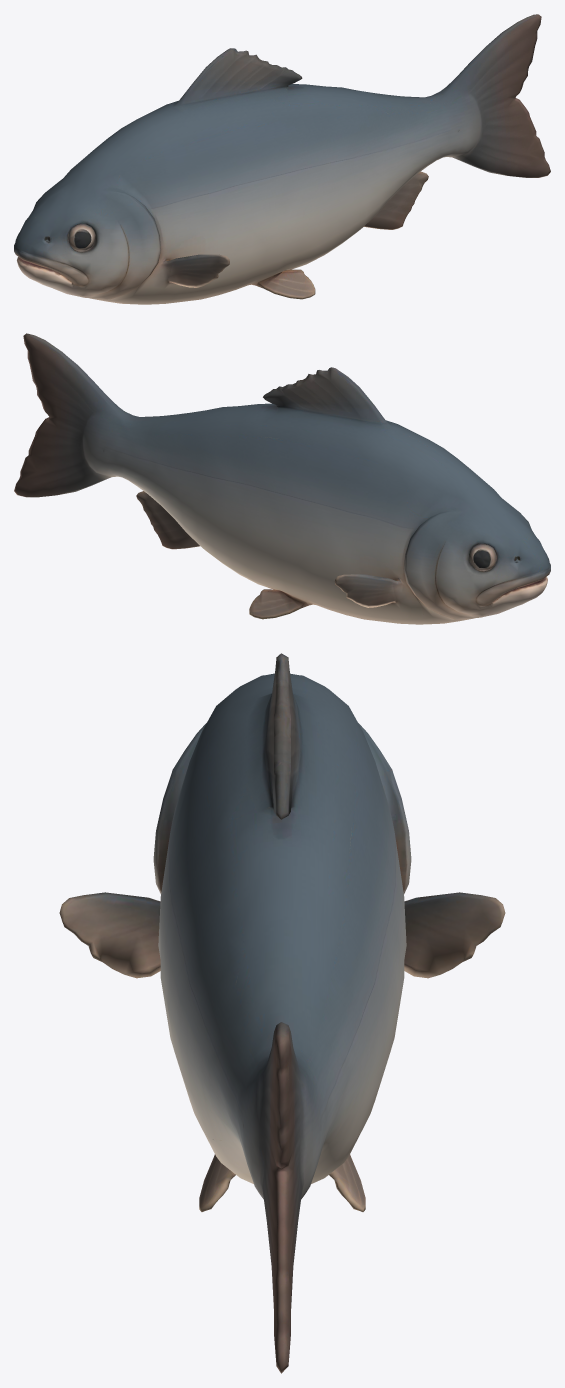
File: selected.glb
3 views of the same model, one above another, from view 1: azimuth 30°, elevation 25°; view 2: azimuth 150°, elevation 25°; view 3: azimuth 270°, elevation 25° (orthographic). The views are drawn at different scales.
Visible parts, largest first — view 1: tripo_node_0d0d45de-6e05-4038-92fd-10e9bfde1a5e; view 2: tripo_node_0d0d45de-6e05-4038-92fd-10e9bfde1a5e; view 3: tripo_node_0d0d45de-6e05-4038-92fd-10e9bfde1a5e.
Part boxes in pixels (left/top/right/bottom): tripo_node_0d0d45de-6e05-4038-92fd-10e9bfde1a5e: left=14, top=14, right=550, bottom=304; tripo_node_0d0d45de-6e05-4038-92fd-10e9bfde1a5e: left=14, top=333, right=550, bottom=624; tripo_node_0d0d45de-6e05-4038-92fd-10e9bfde1a5e: left=59, top=653, right=505, bottom=1373.
Bounding box in the file's own units: 0.998 × 0.4434 × 0.3613.
1 material, 1 textured.
